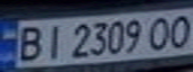0: (106, 17, 127, 56)
2: (66, 20, 93, 60)
3: (87, 18, 112, 57)
9: (121, 16, 148, 54)
B: (9, 23, 48, 62)
I: (39, 21, 69, 61)
O: (145, 13, 175, 51), (163, 11, 193, 48)
